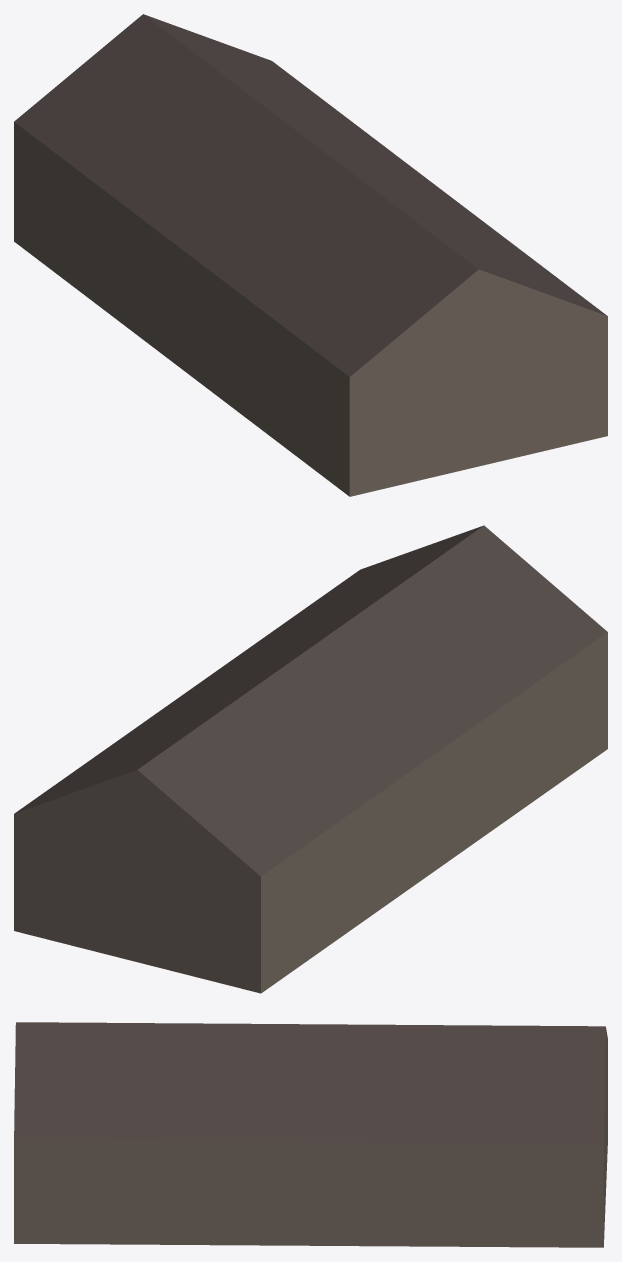
3 views of the same model, one above another, from view 1: azimuth 30°, elevation 25°; view 2: azimuth 150°, elevation 25°; view 3: azimuth 270°, elevation 25° (orthographic). The views are drawn at different scales.
Visible parts, largest first — view 1: HP-w389701910; view 2: HP-w389701910; view 3: HP-w389701910.
Part boxes in pixels (<box>): HP-w389701910: <box>14,14,607,496</box>; HP-w389701910: <box>14,525,607,993</box>; HP-w389701910: <box>14,1022,607,1247</box>.
Bounding box in the file's own units: 6.96 × 4.94 × 15.79.
